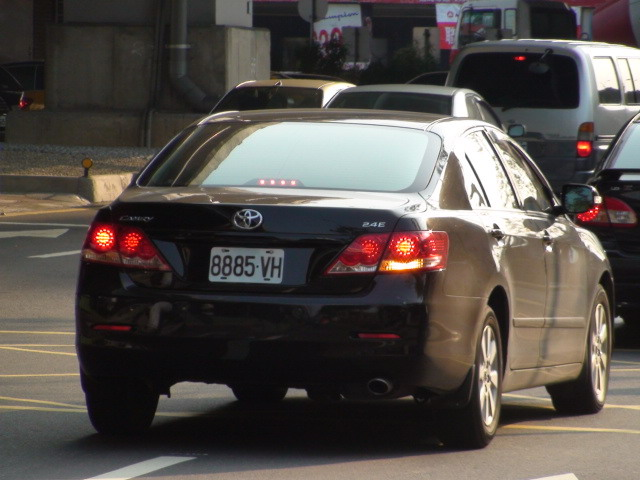plate: (206, 242, 288, 286)
